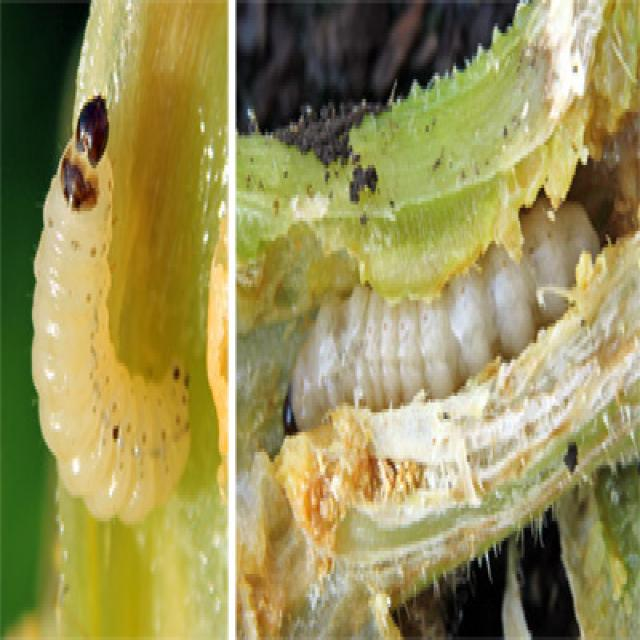cornborer-Larva-: (268, 180, 604, 452)
